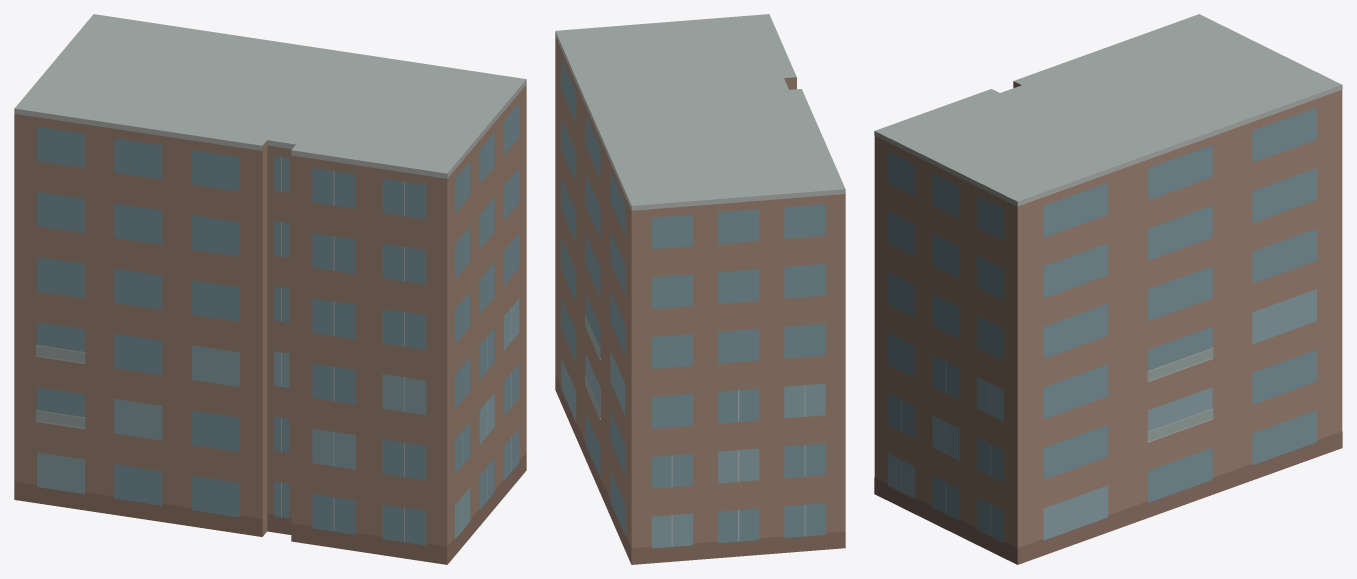
File: survey-upis-32628469.glb
3 views of the same model, side by side, from view 1: azimuth 30°, elevation 25°; view 2: azimuth 150°, elevation 25°; view 3: azimuth 270°, elevation 25° (orthographic). The views are drawn at different scales.
Visible parts, largest first — view 1: survey-upis-32628469.tmp; view 2: survey-upis-32628469.tmp; view 3: survey-upis-32628469.tmp.
Part boxes in pixels (x1,y1,x2,y2): survey-upis-32628469.tmp: (14, 14, 526, 564); survey-upis-32628469.tmp: (555, 14, 845, 564); survey-upis-32628469.tmp: (874, 14, 1342, 564).
Bounding box in the file's own units: 20.29 × 18.3 × 21.38.
